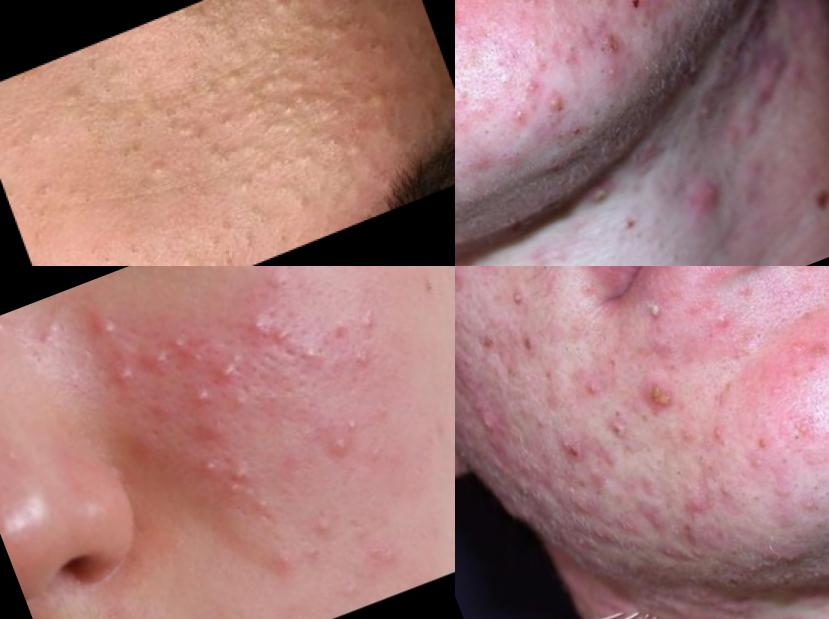blackhead: (337, 1, 399, 79), (73, 44, 137, 118), (19, 174, 74, 241), (542, 32, 594, 78), (479, 60, 528, 102), (282, 1, 323, 47), (85, 232, 126, 267), (267, 222, 302, 255), (119, 235, 150, 267), (116, 141, 141, 171), (475, 119, 500, 143), (549, 1, 585, 10)
cystic: (665, 457, 699, 488)
keloid: (714, 48, 819, 149), (567, 490, 659, 573), (498, 465, 565, 539), (641, 561, 704, 619), (678, 597, 764, 619)
papular: (775, 319, 829, 383), (772, 402, 829, 458), (758, 530, 820, 579), (259, 314, 309, 362), (675, 481, 725, 527), (219, 381, 262, 426), (591, 16, 634, 60), (601, 407, 647, 448), (591, 51, 631, 93), (707, 470, 746, 510), (131, 425, 169, 465), (324, 426, 361, 467), (258, 267, 302, 301), (189, 413, 227, 452), (268, 543, 304, 584), (738, 446, 777, 482), (700, 418, 737, 453), (795, 487, 829, 524), (456, 1, 475, 52)
purulent: (663, 177, 745, 239), (627, 284, 684, 352), (633, 368, 687, 422), (217, 457, 261, 506), (143, 341, 184, 385), (573, 369, 617, 408), (93, 309, 132, 352), (473, 406, 513, 447), (209, 349, 248, 391), (109, 356, 146, 397), (536, 83, 576, 120), (502, 96, 542, 132), (708, 304, 748, 340), (582, 175, 619, 212), (184, 381, 222, 417), (240, 308, 277, 344), (198, 448, 232, 484), (163, 326, 198, 358)
whitehead: (217, 125, 360, 211), (167, 98, 255, 184), (243, 77, 328, 156), (184, 53, 266, 118), (139, 141, 195, 193), (496, 1, 563, 39), (1, 432, 43, 477), (29, 313, 70, 356), (355, 433, 394, 474), (356, 531, 396, 570), (149, 392, 188, 431), (333, 405, 373, 443), (293, 333, 330, 374), (304, 504, 339, 546), (503, 280, 534, 317), (348, 347, 381, 380), (335, 576, 368, 607), (359, 307, 388, 338), (1, 317, 15, 340)
